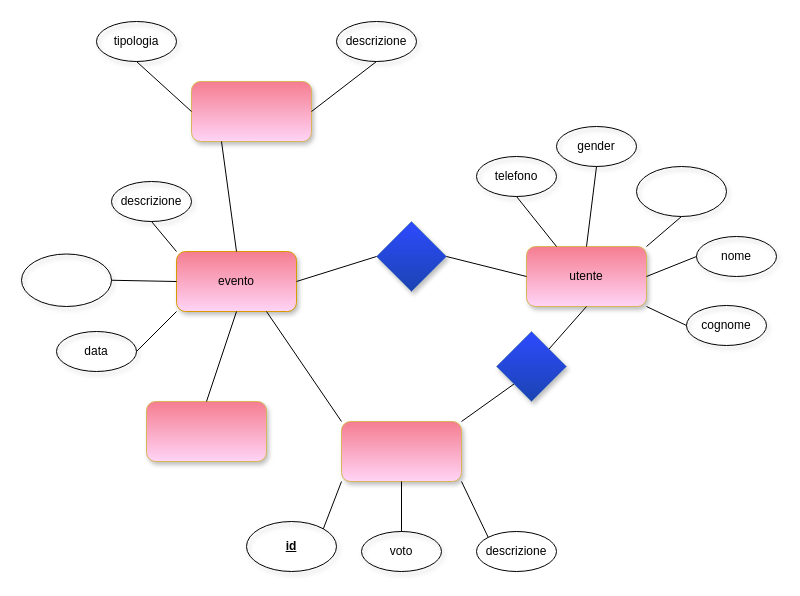
Some shapes in this 800 by 596 pixel diagram are drawn without their labels. Each missing label, with the centre of its shape:
categoria: (252,112)
crea: (532,367)
email: (682,193)
indirizzo: (207,432)
numero partecipanti: (67,281)
partecipa: (412,257)
recensione: (402,452)
